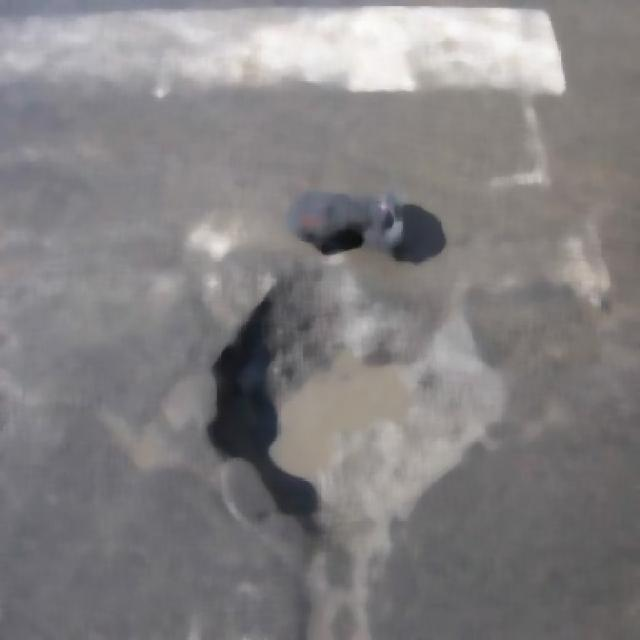Pothole: (250, 298, 448, 510)
